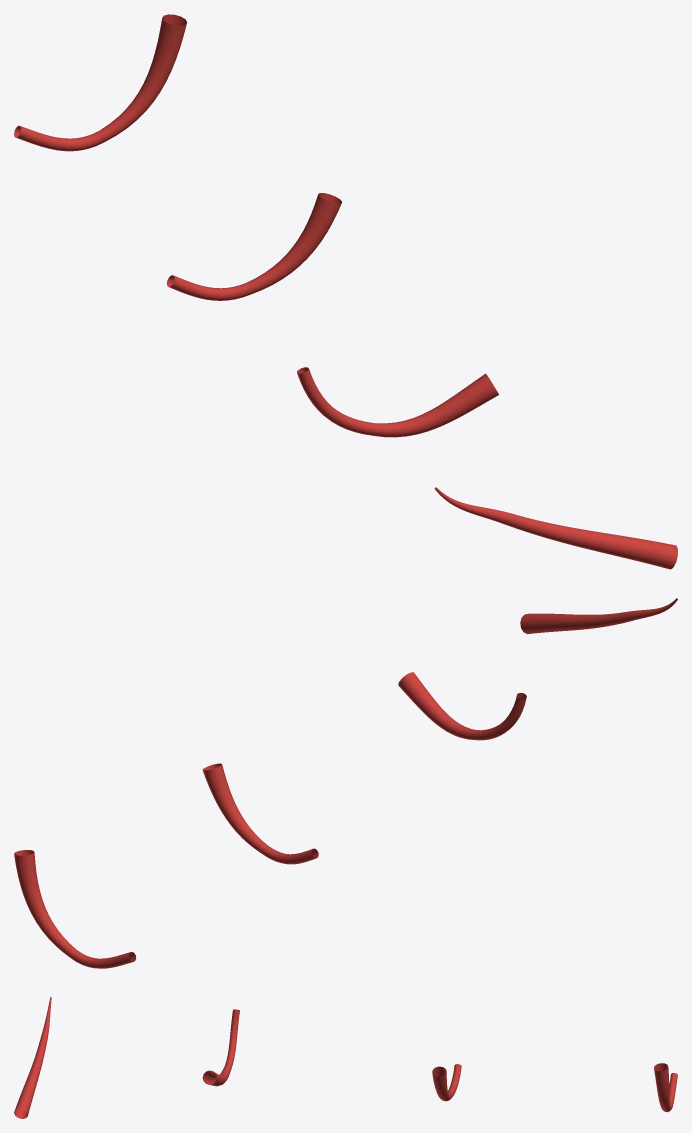
3 views of the same model, one above another, from view 1: azimuth 30°, elevation 25°; view 2: azimuth 150°, elevation 25°; view 3: azimuth 270°, elevation 25° (orthographic). The views are drawn at different scales.
Visible parts, largest first — view 1: 右侧股穿动脉; view 2: 右侧股穿动脉; view 3: 右侧股穿动脉.
Part boxes in pixels (left/top/right/bottom): 右侧股穿动脉: left=14, top=14, right=677, bottom=569; 右侧股穿动脉: left=14, top=598, right=677, bottom=968; 右侧股穿动脉: left=14, top=997, right=677, bottom=1118.
Bounding box in the file's own units: 0.0759 × 0.0318 × 0.2684.
